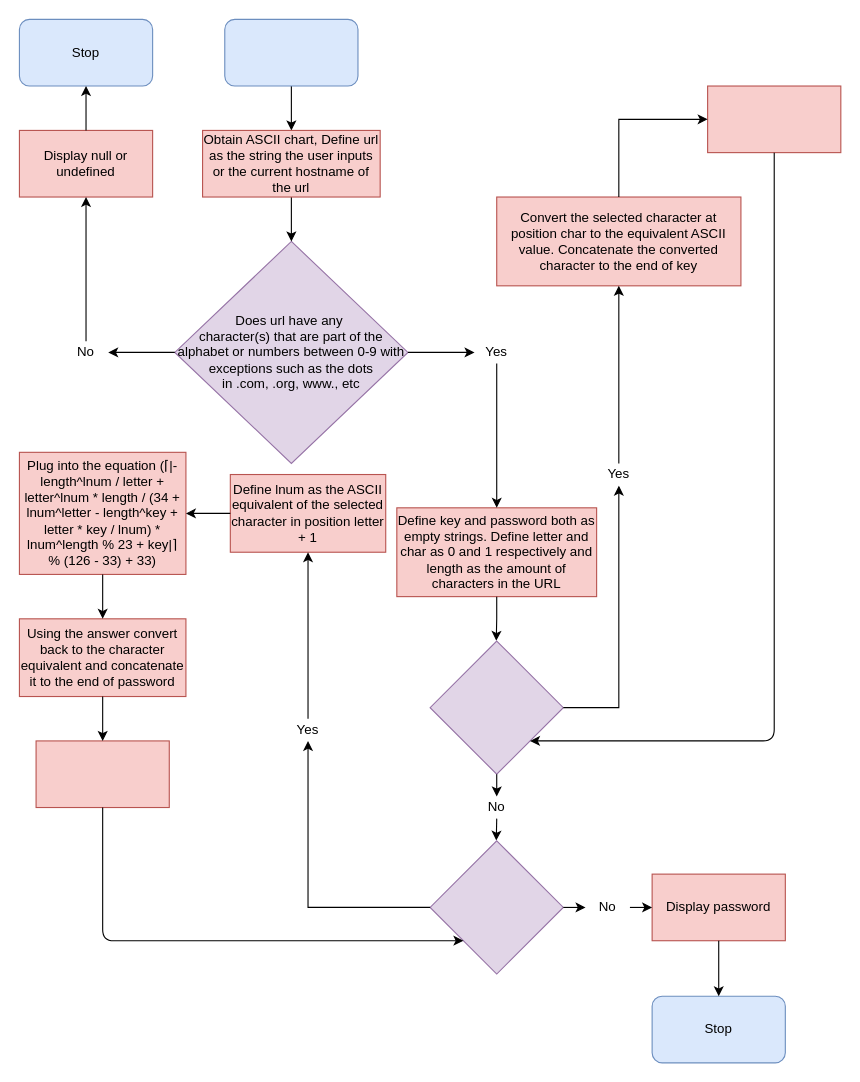
Image size: 860x1082. Some labels were removed from this diagram. Each missing label, with the centre of its shape:
"char = char + 1" goes at pixel 774 119.
"Is char <= length" goes at pixel 496 707.
"Is letter < length" goes at pixel 496 907.
"letter = letter + 1" goes at pixel 102 774.
"Start" goes at pixel 291 52.
